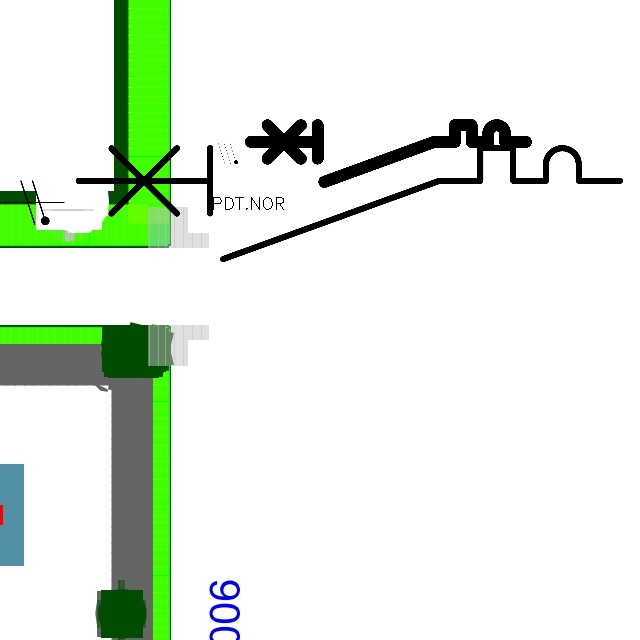interruptor_termomagnetico: (64, 134, 633, 273), (243, 118, 532, 188)
